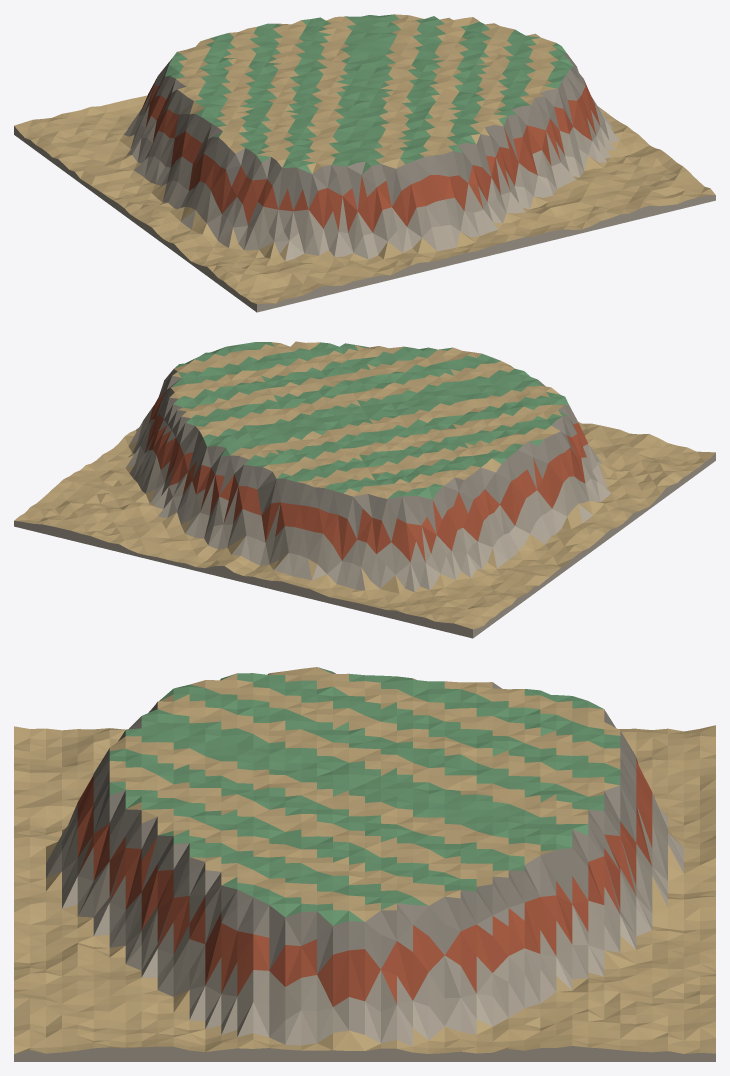
The model's file is TERRAIN_16.obj.
3 views of the same model, one above another, from view 1: azimuth 30°, elevation 25°; view 2: azimuth 150°, elevation 25°; view 3: azimuth 270°, elevation 25° (orthographic). The views are drawn at different scales.
Parts seen in each view (by area): view 1: TERRAIN_16; view 2: TERRAIN_16; view 3: TERRAIN_16.
Boxes of the visible parts, x1,y1,x2,y2 form: TERRAIN_16: (14, 14, 715, 312); TERRAIN_16: (14, 341, 715, 638); TERRAIN_16: (14, 667, 715, 1061).
Size of the model in its own units: 96 by 16.6 by 88.
